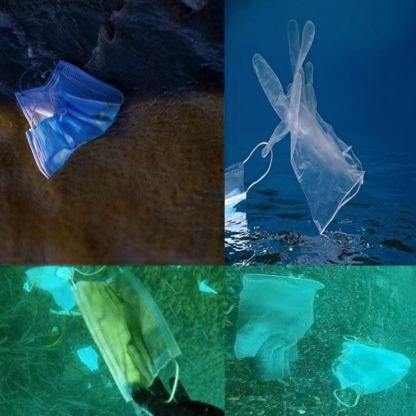Mask: (251, 19, 366, 236), (71, 266, 194, 402), (14, 58, 128, 179), (330, 334, 414, 409), (70, 328, 108, 392)
glove: (232, 272, 319, 382)
